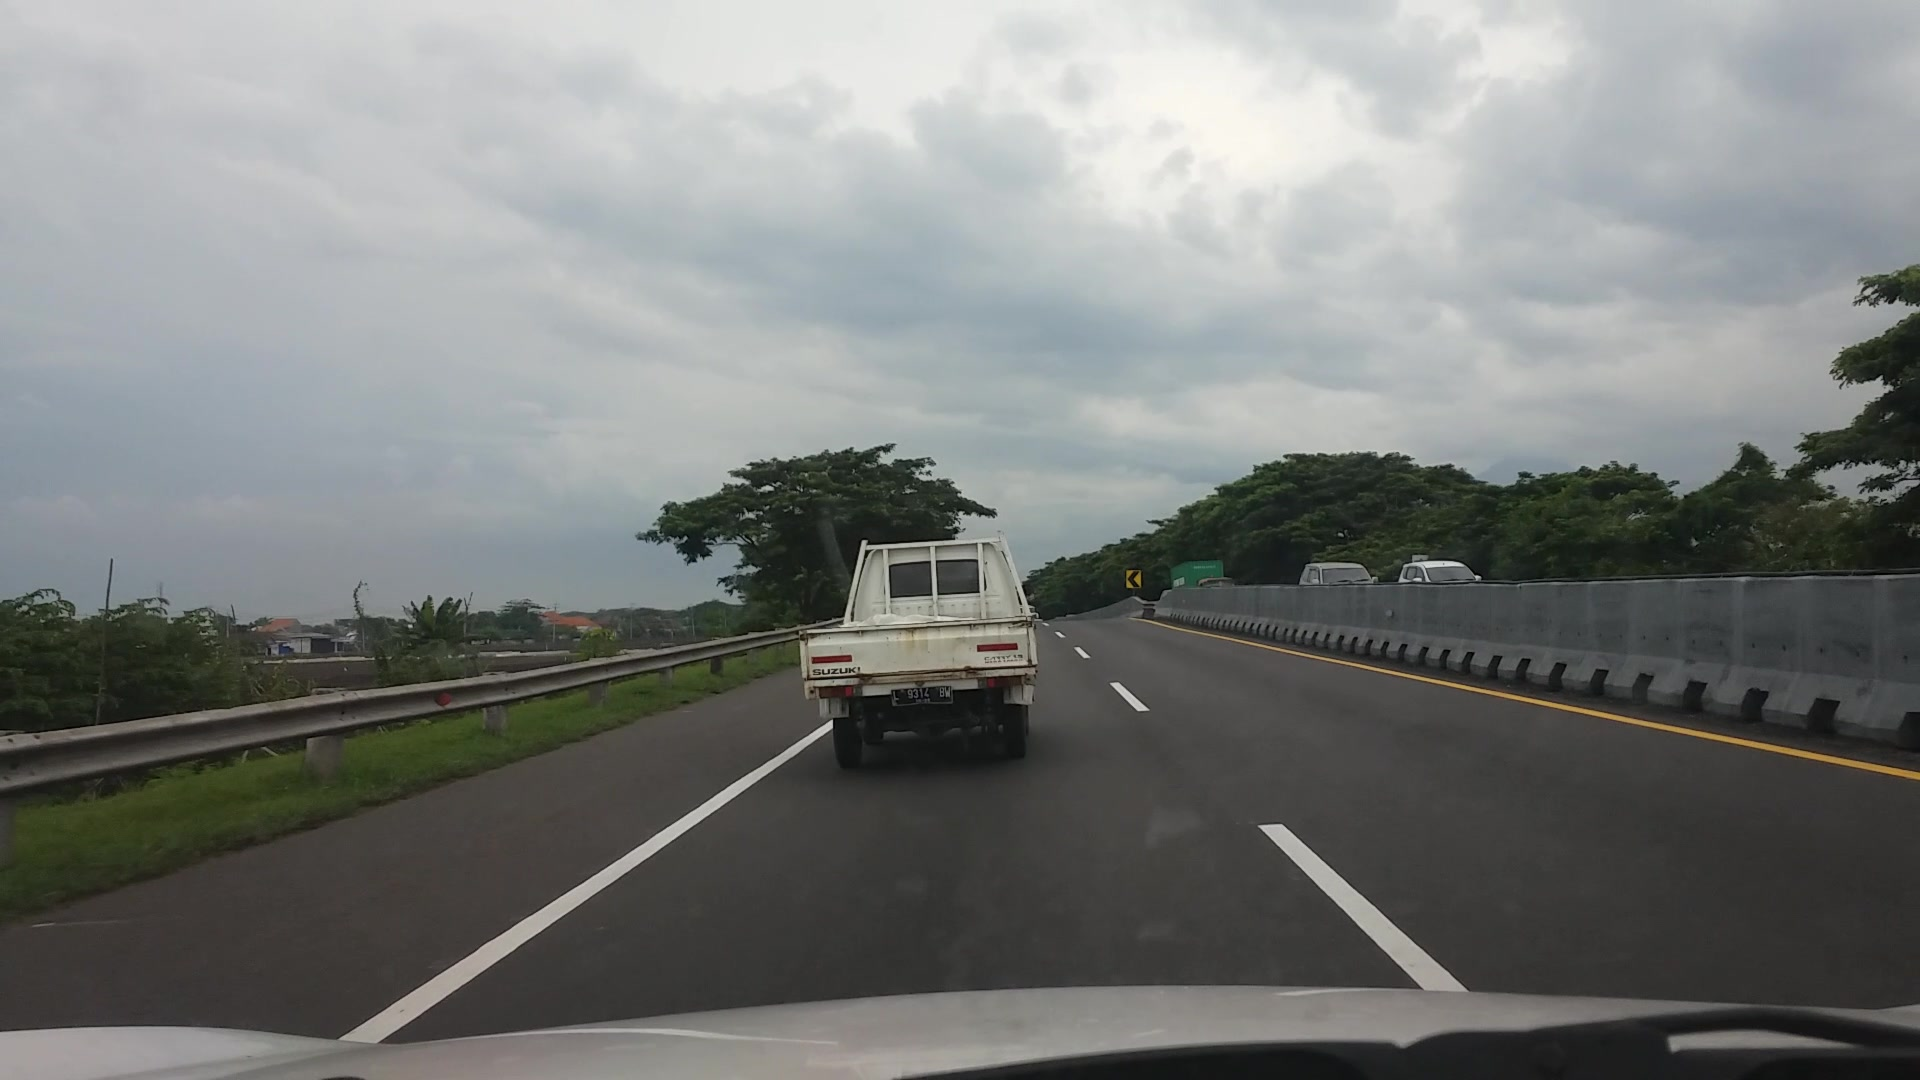plate_positive: (891, 686, 953, 705)
